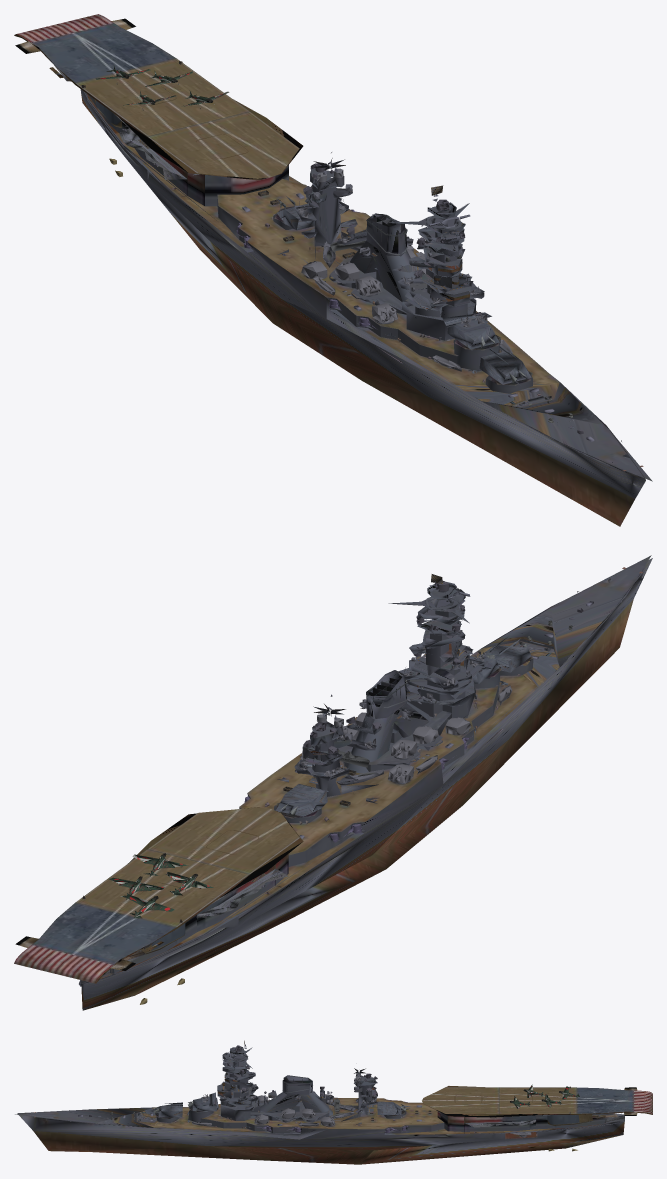
File: ship_lo.glb
3 renders of one model, top to bottom at view 1: azimuth 30°, elevation 25°; view 2: azimuth 150°, elevation 25°; view 3: azimuth 270°, elevation 25°, orthographic. The views are drawn at different scales.
Bounding box in the file's own units: 0.2143 × 0.3442 × 1.8.
Materials: 9 (9 with a texture image).
